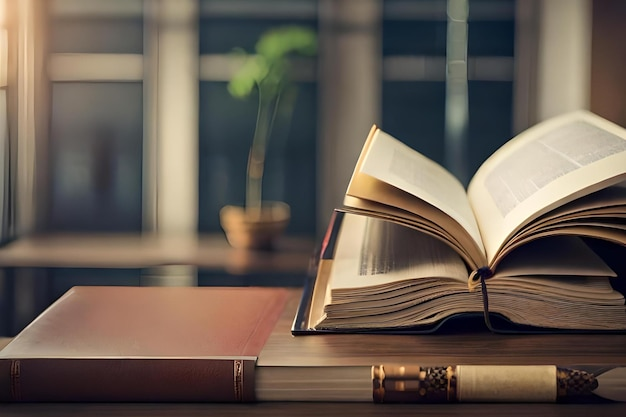book: (289, 95, 626, 341)
